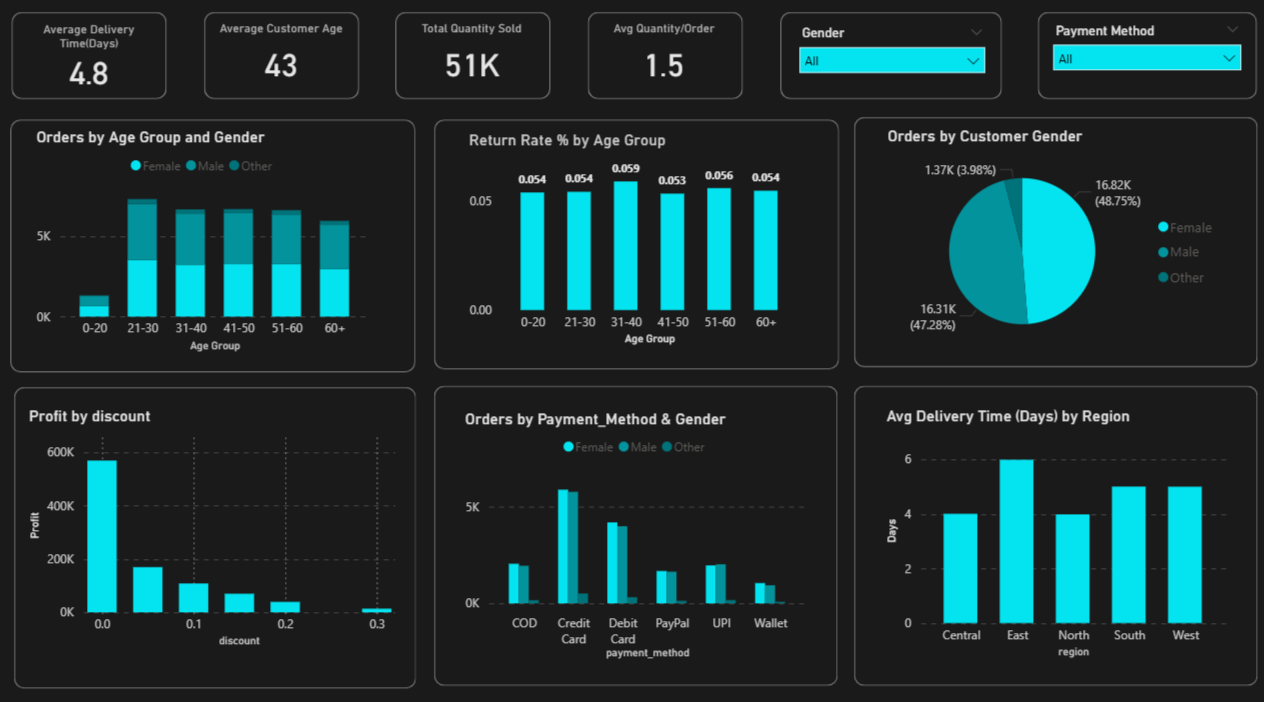

Layout of this report page (visuals, bound fields, positions):
{"tool":"powerbi","page":{"name":"Page 2","canvas":[1280,720],"ordinal":1},"visuals":[{"type":"shape","box":[1042.9,23.8,219,86.9],"z":0,"group":"g6"},{"type":"shape","box":[15.2,130.9,405,252.7],"z":0},{"type":"shape","box":[784.5,23.8,221.4,86.9],"z":1000,"group":"g5"},{"type":"shape","box":[18.3,398.9,401.9,301.4],"z":1000},{"type":"shape","box":[439.3,397.6,403.6,300],"z":2000},{"type":"shape","box":[16.7,23.8,155,86.9],"z":3000,"group":"g1"},{"type":"shape","box":[858.3,397.6,403.6,300],"z":3000},{"type":"shape","box":[208.6,23.8,155,86.9],"z":4000,"group":"g2"},{"type":"shape","box":[858.3,128.6,403.6,250],"z":4000},{"type":"shape","box":[400.6,23.8,155,86.9],"z":5000,"group":"g3"},{"type":"clusteredColumnChart","title":"Orders by Payment_Method & Gender","fields":{"Category":["orders.payment_method"],"Series":["orders.customer_gender"],"Y":["orders.Total Orders"]},"box":[465.5,421.4,351.2,254.8],"z":5000},{"type":"shape","box":[592.5,23.8,155,86.9],"z":6000,"group":"g4"},{"type":"pieChart","title":"Orders by Customer Gender","fields":{"Y":["CountNonNull(orders.order_id)"],"Category":["orders.customer_gender"]},"box":[888.1,139.3,344,231],"z":6000},{"type":"clusteredColumnChart","title":"Avg Delivery Time (Days)  by Region","fields":{"Y":["orders.Avg Delivery Time(Days)"],"Category":["orders.region"]},"box":[885.7,419,350,256],"z":7000},{"type":"columnChart","title":"Orders by Age Group and Gender","fields":{"Category":["orders.Age Group"],"Y":["orders.Total Orders"],"Series":["orders.customer_gender"]},"box":[36.2,140.1,343.5,228.3],"z":8000},{"type":"group","id":"g1","title":"Group 1","box":[16.7,23.8,155,86.9],"z":9000},{"type":"group","id":"g2","title":"Group 2","box":[208.6,23.8,155,86.9],"z":10000},{"type":"group","id":"g3","title":"Group 3","box":[400.6,23.8,155,86.9],"z":11000},{"type":"card","title":"Average Customer Age","fields":{"Values":["orders.Avg Customer Age"]},"box":[217.3,32.1,136.9,70.2],"z":11000,"group":"g2"},{"type":"group","id":"g4","title":"Group 4","box":[592.5,23.8,155,86.9],"z":12000},{"type":"card","title":"Average Delivery Time(Days)","fields":{"Values":["orders.Avg Delivery Time(Days)"]},"box":[28.6,33.3,129.8,70.2],"z":12000,"group":"g1"},{"type":"group","id":"g5","title":"Group 5","box":[784.5,23.8,221.4,86.9],"z":13000},{"type":"group","id":"g6","title":"Group 6","box":[1042.9,23.8,219,86.9],"z":14000},{"type":"card","title":"Total Quantity Sold","fields":{"Values":["orders.Total Quantity Sold"]},"box":[405,32.1,145.2,70.2],"z":15000,"group":"g3"},{"type":"group","id":"g7","title":"Group 3","box":[469.2,143,339,219.2],"z":15000},{"type":"card","title":"Avg Quantity/Order","fields":{"Values":["orders.Avg Quantity/order"]},"box":[606.8,32.1,125,71.4],"z":16000,"group":"g4"},{"type":"shape","box":[438.4,130.9,405,249.7],"z":16000},{"type":"clusteredColumnChart","fields":{"Category":["orders.discount"],"Y":["Sum(orders.profit)"]},"box":[28.6,419,376.2,245.2],"z":17000},{"type":"clusteredColumnChart","fields":{"Category":["orders.Age Group"],"Y":["orders.Return Rate %"]},"box":[469.2,143,339,219.2],"z":19000,"group":"g7"},{"type":"slicer","fields":{"Values":["orders.customer_gender"]},"box":[792.8,32.1,206,67.9],"z":20000,"group":"g5"},{"type":"slicer","fields":{"Values":["orders.payment_method"]},"box":[1047.7,29.8,208.3,75],"z":21000,"group":"g6"}]}

Visuals, with their boxes in screenshot pixels (x1, y1, x2, y2), scaled from the page's 1280x720 canvas onto the 1264x702 screenshot:
shape: detection(1030, 23, 1246, 108)
shape: detection(15, 128, 415, 374)
shape: detection(775, 23, 993, 108)
shape: detection(18, 389, 415, 683)
shape: detection(434, 388, 832, 680)
shape: detection(16, 23, 170, 108)
shape: detection(848, 388, 1246, 680)
shape: detection(206, 23, 359, 108)
shape: detection(848, 125, 1246, 369)
shape: detection(396, 23, 549, 108)
"Orders by Payment_Method & Gender" clusteredColumnChart: detection(460, 411, 806, 659)
shape: detection(585, 23, 738, 108)
"Orders by Customer Gender" pieChart: detection(877, 136, 1217, 361)
"Avg Delivery Time (Days)  by Region" clusteredColumnChart: detection(875, 409, 1220, 658)
"Orders by Age Group and Gender" columnChart: detection(36, 137, 375, 359)
"Group 1" group: detection(16, 23, 170, 108)
"Group 2" group: detection(206, 23, 359, 108)
"Group 3" group: detection(396, 23, 549, 108)
"Average Customer Age" card: detection(215, 31, 350, 100)
"Group 4" group: detection(585, 23, 738, 108)
"Average Delivery Time(Days)" card: detection(28, 32, 156, 101)
"Group 5" group: detection(775, 23, 993, 108)
"Group 6" group: detection(1030, 23, 1246, 108)
"Total Quantity Sold" card: detection(400, 31, 543, 100)
"Group 3" group: detection(463, 139, 798, 353)
"Avg Quantity/Order" card: detection(599, 31, 723, 101)
shape: detection(433, 128, 833, 371)
clusteredColumnChart - orders.discount x Sum(orders.profit): detection(28, 409, 400, 648)
clusteredColumnChart - orders.Age Group x orders.Return Rate %: detection(463, 139, 798, 353)
slicer - orders.customer_gender: detection(783, 31, 986, 98)
slicer - orders.payment_method: detection(1035, 29, 1240, 102)
